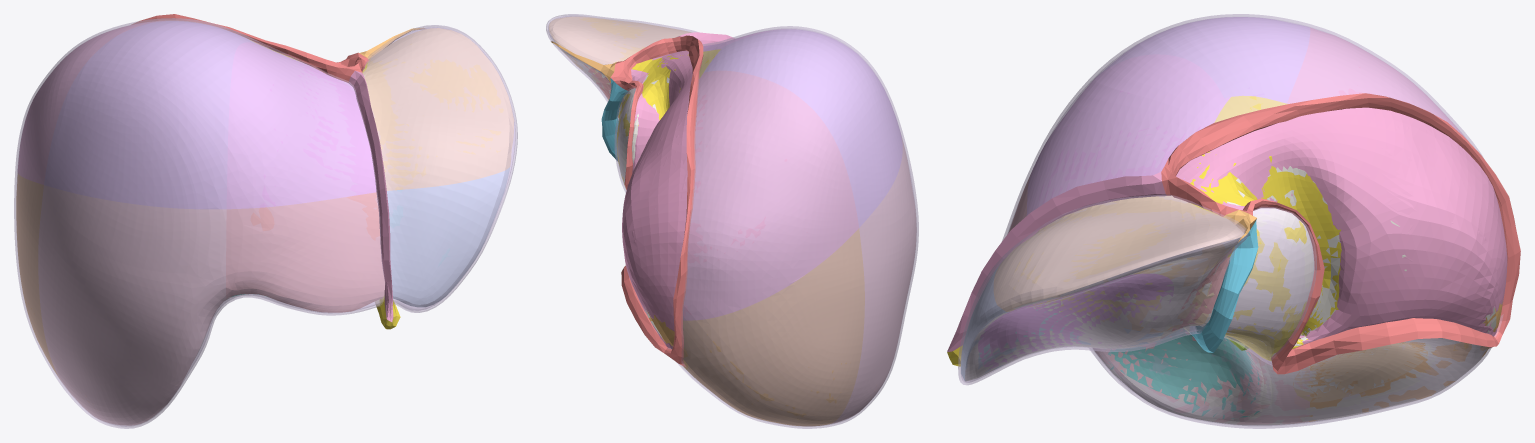
The model's file is organ-liver.glb.
3 renders of one model, left to right at view 1: azimuth 30°, elevation 25°; view 2: azimuth 150°, elevation 25°; view 3: azimuth 270°, elevation 25°, orthographic. The views are drawn at different scales.
Parts seen in each view (by area): view 1: liver-capsule, right-anteroinferior-segment, right-anterosuperior-segment, left-superomedial-segment, left-posterolateral-segment, left-inferomedial-segment, left-anterolateral-segment, right-posterosuperior-segment, right-posteroinferior-segment, falciform-ligament, coronary-ligament-of-liver; view 2: liver-capsule, right-posterosuperior-segment, right-posteroinferior-segment, right-anterosuperior-segment, bare-area-of-liver, right-anteroinferior-segment, coronary-ligament-of-liver, left-posterolateral-segment, caudate-lobe-of-liver, diaphragmatic-surface, ligamentum-venosum, triangular-ligament-of-liver (+1 smaller); view 3: liver-capsule, bare-area-of-liver, diaphragmatic-surface, left-posterolateral-segment, left-superomedial-segment, coronary-ligament-of-liver, right-anterosuperior-segment, caudate-lobe-of-liver, right-posterosuperior-segment, gastric-impression-of-liver, colic-impression-of-liver, falciform-ligament (+6 smaller).
Boxes of the visible parts, bbox=[...] form: liver-capsule: bbox=[14, 18, 517, 428]; right-anteroinferior-segment: bbox=[38, 185, 226, 425]; right-anterosuperior-segment: bbox=[44, 21, 255, 209]; left-superomedial-segment: bbox=[226, 42, 376, 209]; left-posterolateral-segment: bbox=[363, 28, 514, 190]; left-inferomedial-segment: bbox=[226, 192, 384, 312]; left-anterolateral-segment: bbox=[387, 167, 509, 307]; right-posterosuperior-segment: bbox=[17, 21, 165, 184]; right-posteroinferior-segment: bbox=[16, 173, 59, 378]; falciform-ligament: bbox=[348, 70, 393, 321]; coronary-ligament-of-liver: bbox=[131, 14, 368, 82]; liver-capsule: bbox=[546, 14, 918, 428]; right-posterosuperior-segment: bbox=[627, 70, 858, 320]; right-posteroinferior-segment: bbox=[647, 228, 864, 426]; right-anterosuperior-segment: bbox=[704, 29, 902, 227]; bare-area-of-liver: bbox=[622, 50, 692, 348]; right-anteroinferior-segment: bbox=[831, 137, 916, 423]; coronary-ligament-of-liver: bbox=[610, 35, 703, 367]; left-posterolateral-segment: bbox=[548, 16, 691, 117]; caudate-lobe-of-liver: bbox=[616, 49, 720, 185]; diaphragmatic-surface: bbox=[553, 39, 669, 337]; ligamentum-venosum: bbox=[601, 78, 628, 161]; triangular-ligament-of-liver: bbox=[551, 41, 616, 82]; liver-capsule: bbox=[958, 14, 1503, 428]; bare-area-of-liver: bbox=[1176, 107, 1507, 344]; diaphragmatic-surface: bbox=[965, 166, 1496, 425]; left-posterolateral-segment: bbox=[993, 195, 1243, 332]; left-superomedial-segment: bbox=[1026, 54, 1230, 215]; coronary-ligament-of-liver: bbox=[1161, 93, 1520, 374]; right-anterosuperior-segment: bbox=[1095, 17, 1310, 103]; caudate-lobe-of-liver: bbox=[1190, 96, 1341, 360]; right-posterosuperior-segment: bbox=[1287, 28, 1499, 308]; gastric-impression-of-liver: bbox=[978, 273, 1173, 369]; colic-impression-of-liver: bbox=[1108, 329, 1259, 418]; falciform-ligament: bbox=[947, 172, 1166, 351].
Size of the model in its own units: 0.1914 by 0.1746 by 0.2018.
